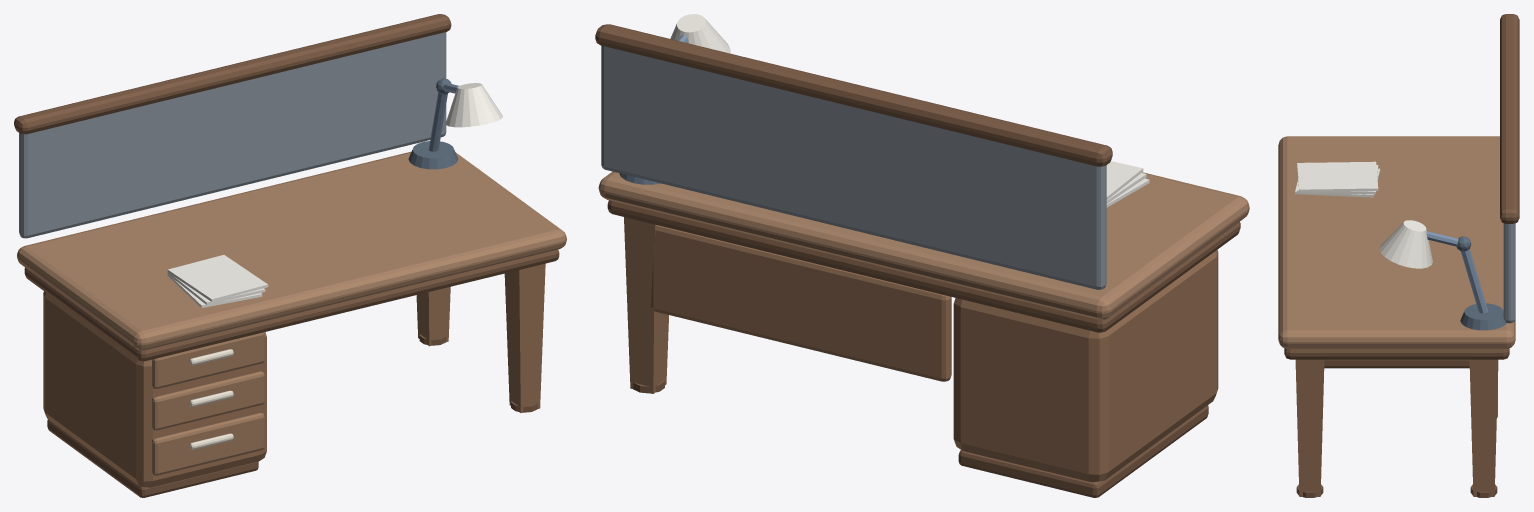
The model's file is desk_a.glb.
3 views of the same model, side by side, from view 1: azimuth 30°, elevation 25°; view 2: azimuth 150°, elevation 25°; view 3: azimuth 270°, elevation 25° (orthographic). The views are drawn at different scales.
Parts seen in each view (by area): view 1: Desk, Bulb; view 2: Desk, Bulb; view 3: Desk, Bulb.
Part boxes in pixels (<box>): Desk: <box>14,14,566,497</box>; Bulb: <box>445,83,502,127</box>; Desk: <box>595,24,1249,497</box>; Bulb: <box>670,14,730,53</box>; Desk: <box>1278,14,1519,497</box>; Bulb: <box>1379,220,1432,268</box>.
Bounding box in the file's own units: 1.2 × 0.82 × 0.61.
